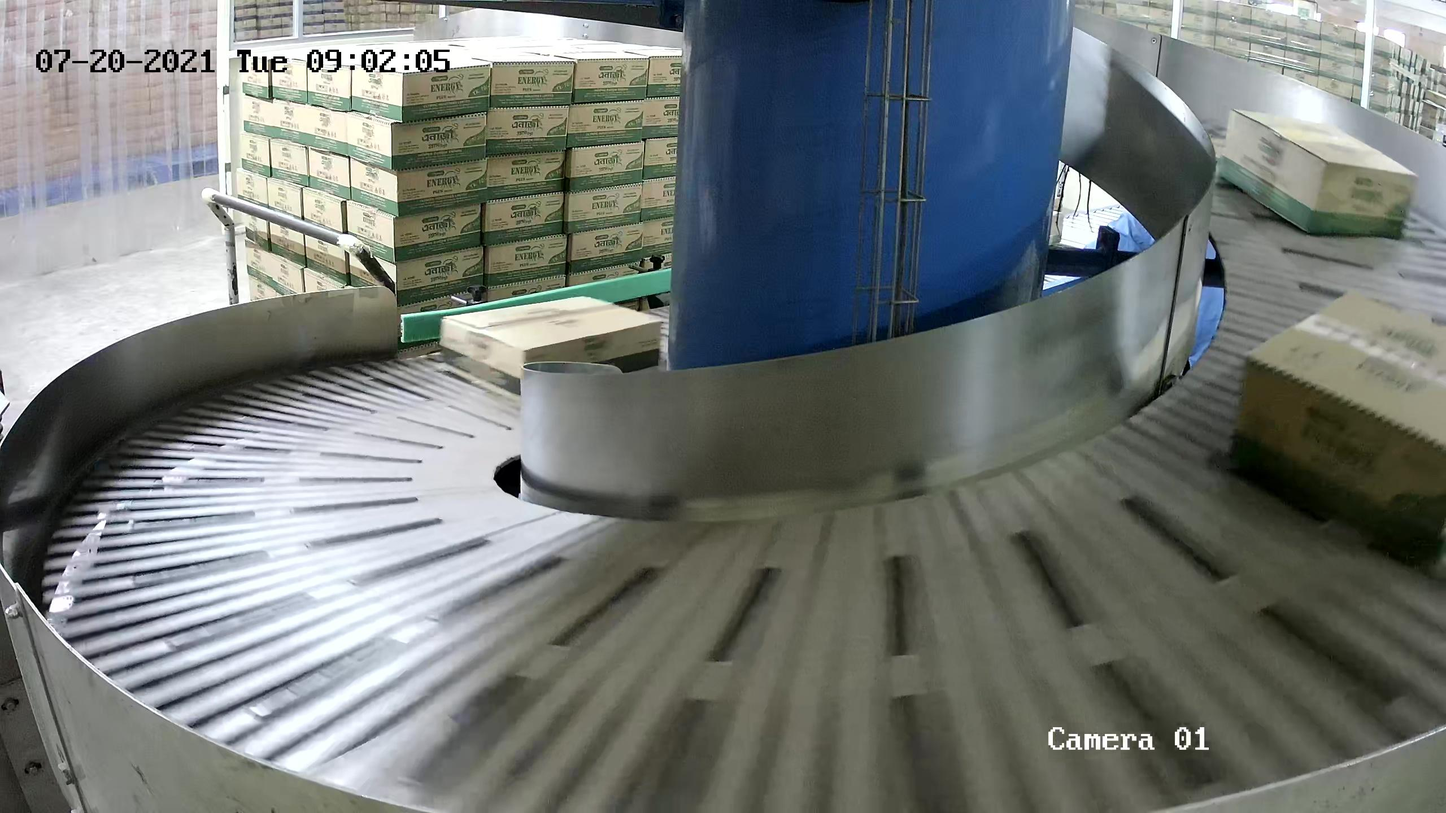Box: (1232, 287, 1446, 560), (1216, 106, 1419, 239), (438, 294, 664, 403)
